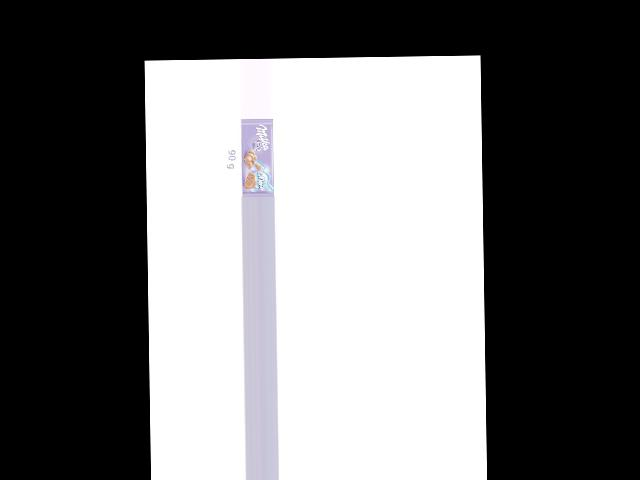chocolate: (241, 120, 274, 197)
